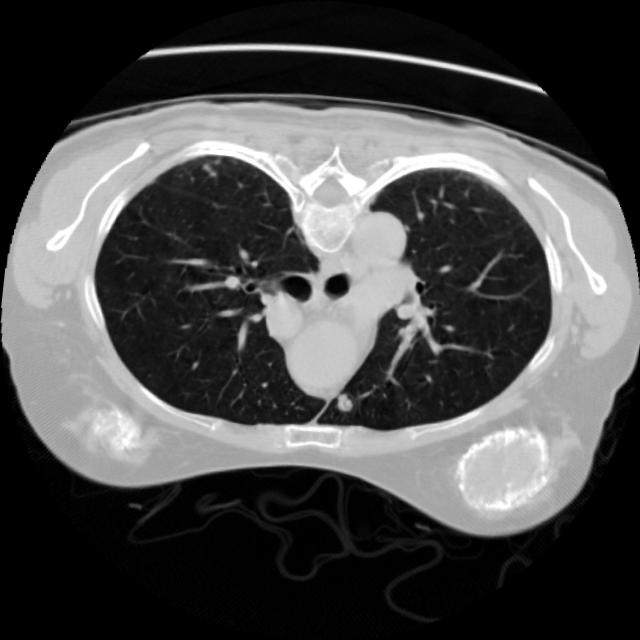nodule: (320, 382, 362, 424)
